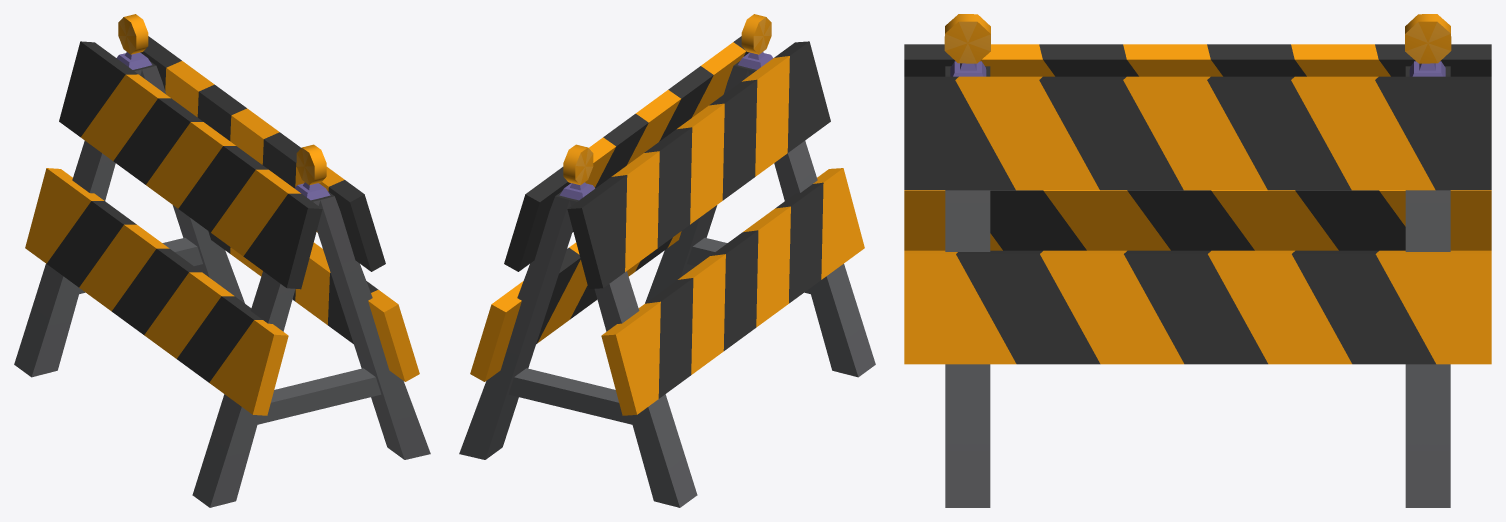
The model's file is RoadBarier_1_A.fbx.
3 views of the same model, side by side, from view 1: azimuth 30°, elevation 25°; view 2: azimuth 150°, elevation 25°; view 3: azimuth 270°, elevation 25° (orthographic). The views are drawn at different scales.
Visible parts, largest first — view 1: RoadBarier_1_A; view 2: RoadBarier_1_A; view 3: RoadBarier_1_A.
Boxes of the visible parts, bbox=[...] form: RoadBarier_1_A: bbox=[14, 14, 430, 507]; RoadBarier_1_A: bbox=[459, 14, 875, 507]; RoadBarier_1_A: bbox=[904, 14, 1491, 507].
Bounding box in the file's own units: 78.62 × 111 × 140.
